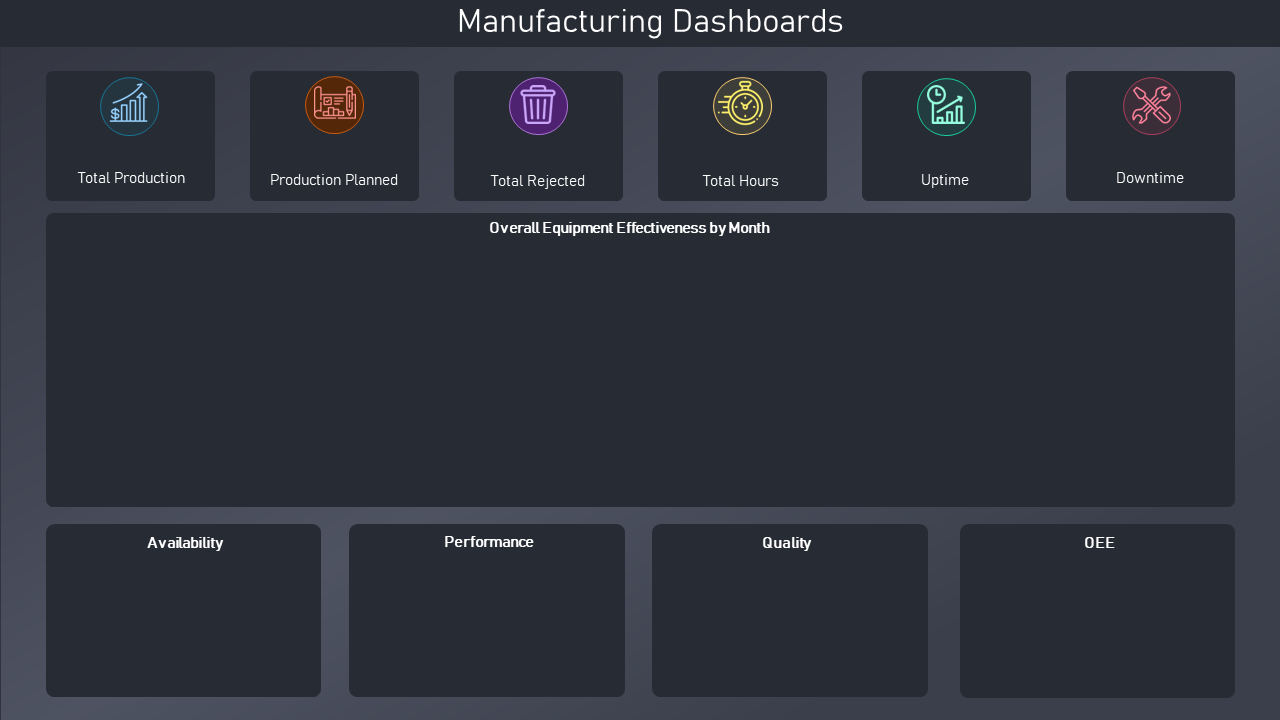

What the dashboard file says about the page in this screenshot:
{"tool":"powerbi","page":{"name":"Page 1","canvas":[1280,720],"ordinal":0},"visuals":[{"type":"card","fields":{"Values":["Measures (2).Total Produced"]},"box":[50,136.4,161.8,30.9],"z":0},{"type":"gauge","fields":{"Y":["Measures (2).Availability"]},"box":[43.6,557.3,276.4,148.2],"z":1000},{"type":"gauge","fields":{"Y":["Measures (2).Performance"]},"box":[350,557.3,276.4,148.2],"z":2000},{"type":"gauge","fields":{"Y":["Measures (2).Quality"]},"box":[652.7,557.3,276.4,148.2],"z":3000},{"type":"gauge","fields":{"Y":["Measures (2).Overall Equipment Effectiviness"]},"box":[960.9,557.3,276.4,148.2],"z":4000},{"type":"card","fields":{"Values":["Measures (2).Total Theoretical Produced"]},"box":[252.7,136.4,161.8,30.9],"z":5000},{"type":"card","fields":{"Values":["Measures (2).Total Rejected"]},"box":[457.3,136.4,161.8,30.9],"z":6000},{"type":"card","fields":{"Values":["Measures (2).Total Hours"]},"box":[662.7,136.4,161.8,30.9],"z":7000},{"type":"card","fields":{"Values":["Measures (2).Productive hours"]},"box":[865.5,136.4,161.8,30.9],"z":8000},{"type":"card","fields":{"Values":["Measures (2).Downtime"]},"box":[1069.1,136.4,161.8,30.9],"z":9000},{"type":"clusteredColumnChart","fields":{"Category":["Production.Started_Date.Variation.Date Hierarchy.Month"],"Y":["Measures (2).Overall Equipment Effectiviness"]},"box":[58.8,232.5,1160,262.5],"z":10000}]}

Visuals, with their boxes in screenshot pixels (x1, y1, x2, y2), scaled from the page's 1280x720 canvas onto the 1280x720 screenshot:
card - Measures (2).Total Produced: left=50, top=136, right=212, bottom=167
gauge - Measures (2).Availability: left=44, top=557, right=320, bottom=706
gauge - Measures (2).Performance: left=350, top=557, right=626, bottom=706
gauge - Measures (2).Quality: left=653, top=557, right=929, bottom=706
gauge - Measures (2).Overall Equipment Effectiviness: left=961, top=557, right=1237, bottom=706
card - Measures (2).Total Theoretical Produced: left=253, top=136, right=414, bottom=167
card - Measures (2).Total Rejected: left=457, top=136, right=619, bottom=167
card - Measures (2).Total Hours: left=663, top=136, right=824, bottom=167
card - Measures (2).Productive hours: left=866, top=136, right=1027, bottom=167
card - Measures (2).Downtime: left=1069, top=136, right=1231, bottom=167
clusteredColumnChart - Production.Started_Date.Variation.Date Hierarchy.Month x Measures (2).Overall Equipment Effectiviness: left=59, top=232, right=1219, bottom=495
